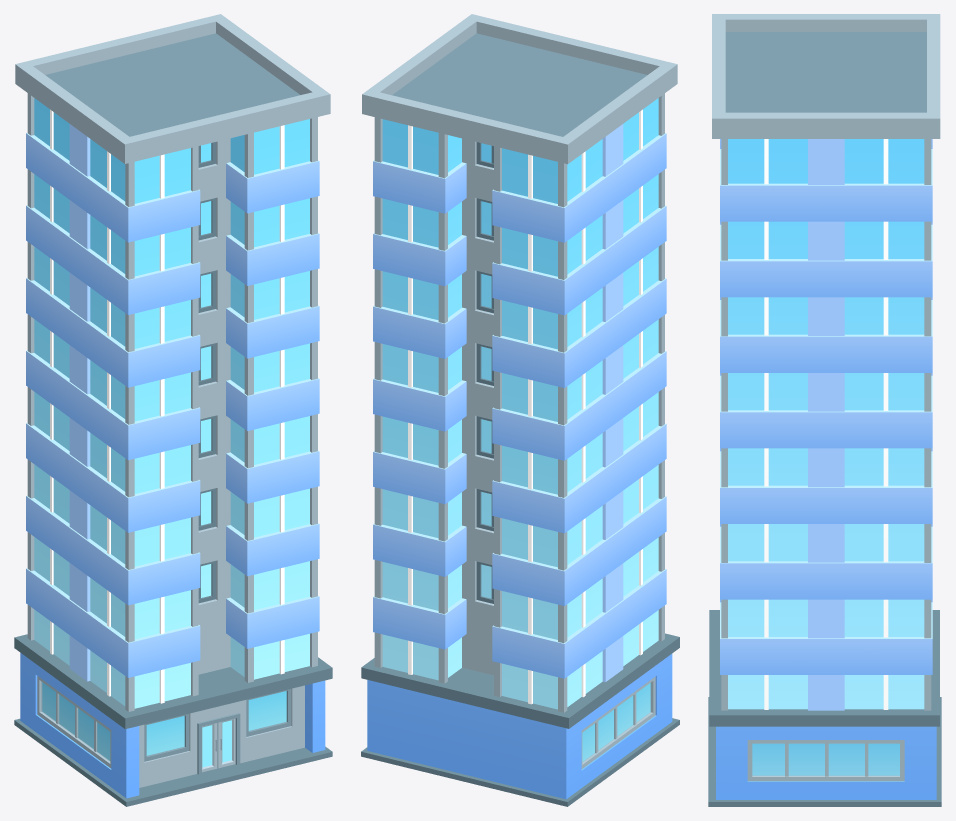
The model's file is city2-building-living-43.glb.
The picture shows the model from 3 angles, left to right: view 1: azimuth 30°, elevation 25°; view 2: azimuth 150°, elevation 25°; view 3: azimuth 270°, elevation 25°; orthographic projection. The views are drawn at different scales.
Visible parts, largest first — view 1: Building_Living_43; view 2: Building_Living_43; view 3: Building_Living_43.
Part boxes in pixels (left/top/right/bottom): Building_Living_43: left=14, top=14, right=332, bottom=806; Building_Living_43: left=361, top=14, right=679, bottom=806; Building_Living_43: left=708, top=14, right=941, bottom=806.
Size of the model in its own units: 9.92 by 30.2 by 9.28.
2 materials, 2 textured.
